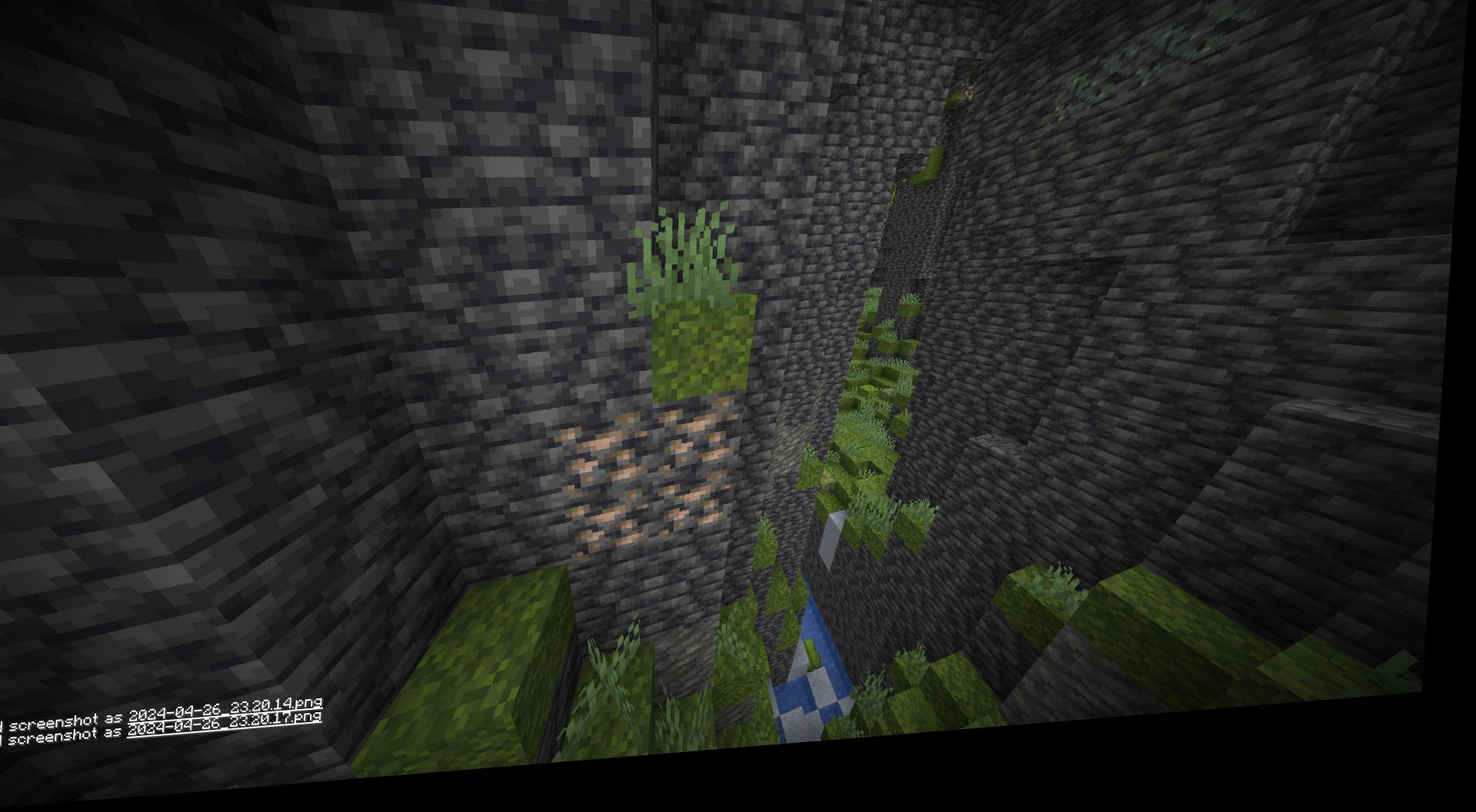iron ore: (652, 407, 744, 491), (555, 421, 653, 497), (575, 492, 655, 566), (663, 481, 742, 550)
